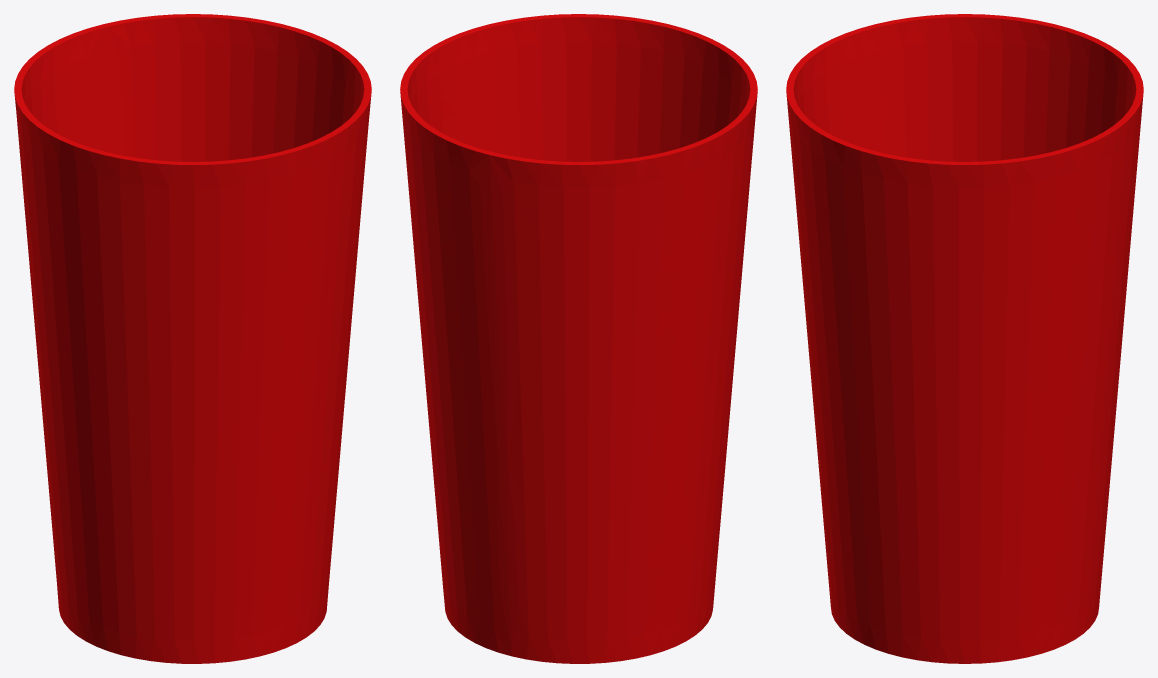
The model's file is Gobelet.fbx.
3 renders of one model, left to right at view 1: azimuth 30°, elevation 25°; view 2: azimuth 150°, elevation 25°; view 3: azimuth 270°, elevation 25°, orthographic.
Parts seen in each view (by area): view 1: Gobelet; view 2: Gobelet; view 3: Gobelet.
Part boxes in pixels (bbox=[...]): Gobelet: bbox=[14, 14, 371, 663]; Gobelet: bbox=[400, 14, 757, 663]; Gobelet: bbox=[786, 14, 1143, 663].
Size of what is drawn, in the model's own units: 720 by 1150 by 720.
